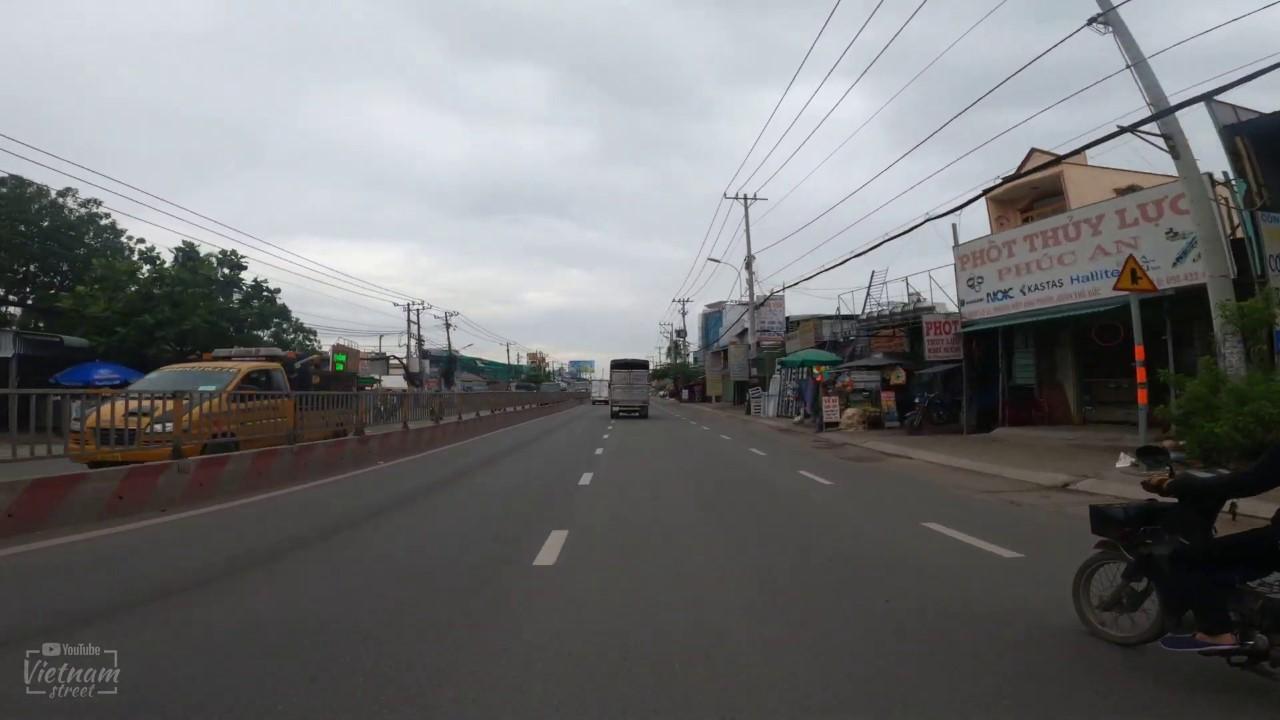giao_khong_uu_tien_phai: (1111, 253, 1160, 293)
